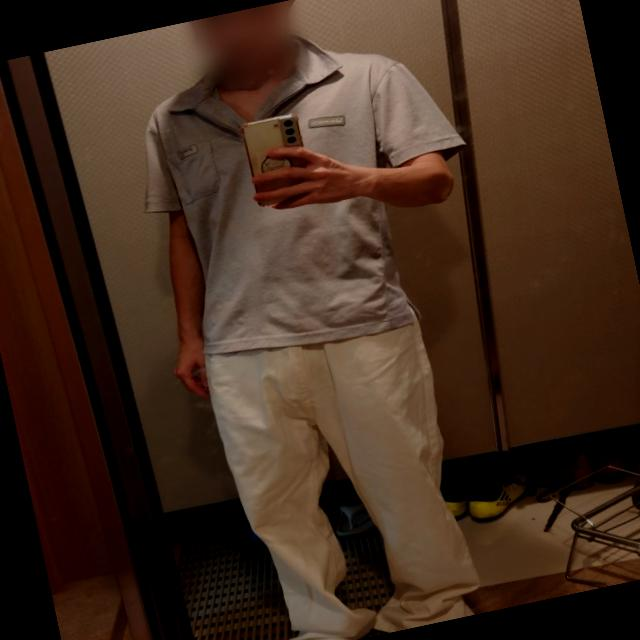cottonpants: (195, 303, 488, 640)
shortsleeve: (117, 13, 500, 376)
